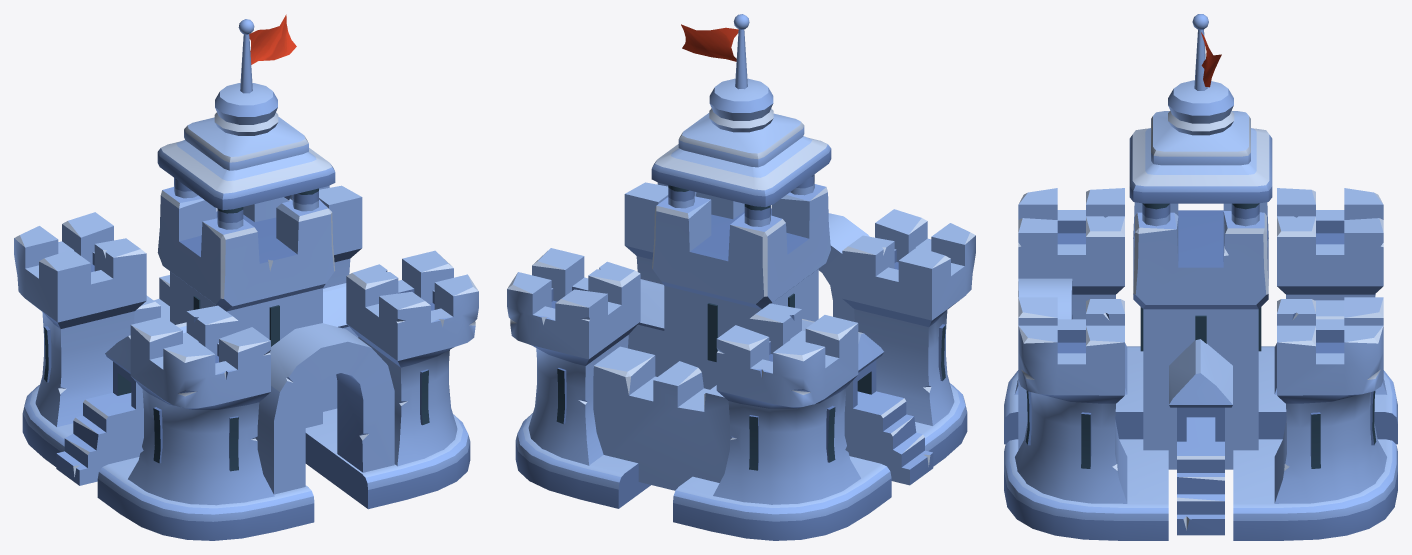
File: Land_XMAS_Reg_L_IceFort.fbx
3 views of the same model, side by side, from view 1: azimuth 30°, elevation 25°; view 2: azimuth 150°, elevation 25°; view 3: azimuth 270°, elevation 25° (orthographic). The views are drawn at different scales.
Visible parts, largest first — view 1: Color_16, Color_01, Color_17, Color_09, Color_10, Color_21, Color_15, Color_08, Color_11, Color_12, Color_18, Color_19 (+4 smaller); view 2: Color_17, Color_01, Color_16, Color_18, Color_14, Color_19, Color_08, Color_11, Color_12, Color_20, Color_09, Color_02 (+4 smaller); view 3: Color_01, Color_18, Color_09, Color_17, Color_16, Color_02, Color_20, Color_15, Color_11, Color_12, Color_19, Color_21 (+5 smaller).
Part boxes in pixels (x1,y1,x2,y2): Color_16: [128, 305, 274, 505]; Color_01: [157, 187, 335, 427]; Color_17: [14, 212, 146, 426]; Color_09: [346, 250, 478, 466]; Color_10: [255, 323, 394, 494]; Color_21: [97, 457, 314, 540]; Color_15: [305, 408, 470, 509]; Color_08: [56, 322, 186, 485]; Color_11: [157, 140, 335, 210]; Color_12: [184, 83, 308, 170]; Color_18: [289, 185, 362, 288]; Color_19: [22, 385, 73, 466]; Color_17: [713, 303, 860, 504]; Color_01: [652, 184, 830, 389]; Color_16: [842, 209, 975, 425]; Color_18: [507, 248, 640, 465]; Color_14: [593, 346, 731, 490]; Color_19: [673, 456, 891, 540]; Color_08: [802, 319, 933, 485]; Color_11: [651, 136, 831, 207]; Color_12: [678, 78, 804, 167]; Color_20: [515, 413, 650, 508]; Color_09: [624, 182, 696, 284]; Color_02: [628, 279, 664, 376]; Color_01: [1133, 202, 1268, 469]; Color_18: [1274, 297, 1386, 503]; Color_09: [1015, 297, 1127, 503]; Color_17: [1274, 188, 1386, 394]; Color_16: [1015, 188, 1127, 394]; Color_02: [1169, 339, 1232, 535]; Color_20: [1233, 439, 1397, 540]; Color_15: [1004, 439, 1168, 540]; Color_11: [1129, 128, 1272, 203]; Color_12: [1151, 80, 1250, 165]; Color_19: [1258, 346, 1397, 444]; Color_21: [1004, 346, 1143, 444].
Size of the model in its own units: 34.14 by 38.95 by 31.36.
